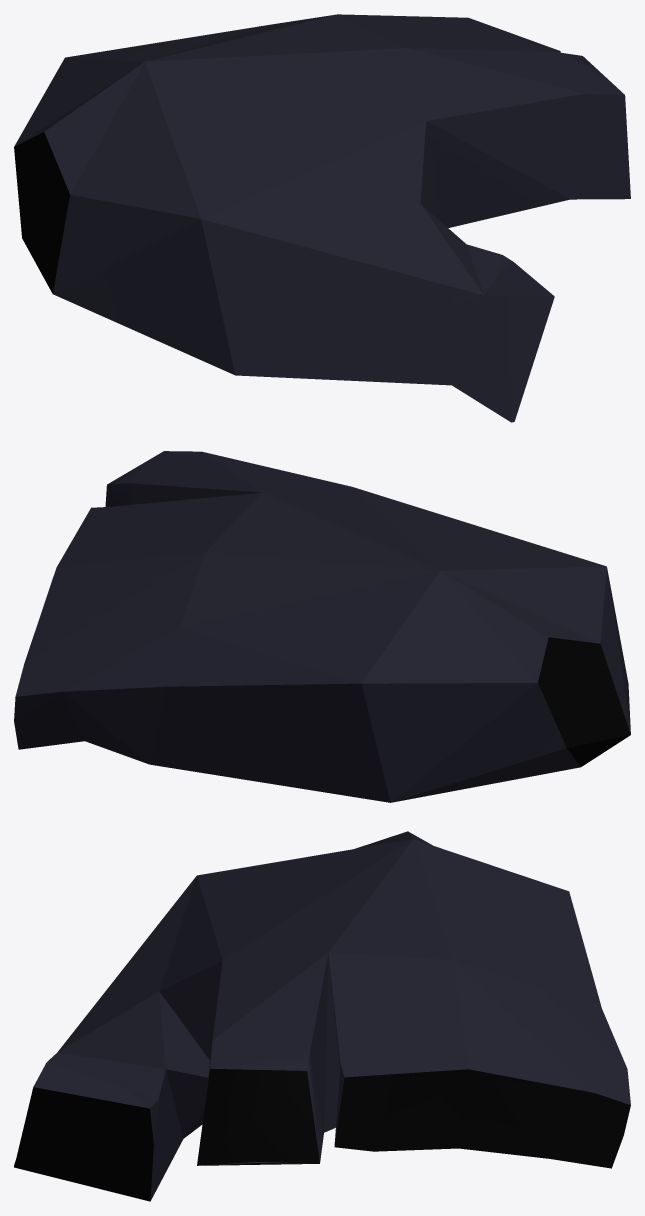
Rendered from glove.fbx.
3 renders of one model, top to bottom at view 1: azimuth 30°, elevation 25°; view 2: azimuth 150°, elevation 25°; view 3: azimuth 270°, elevation 25°, orthographic. The views are drawn at different scales.
Visible parts, largest first — view 1: glove; view 2: glove; view 3: glove.
Boxes of the visible parts, bbox=[...] form: glove: bbox=[14, 14, 630, 422]; glove: bbox=[14, 451, 630, 802]; glove: bbox=[14, 831, 630, 1201].
Size of the model in its own units: 17.18 by 8.44 by 17.81.
